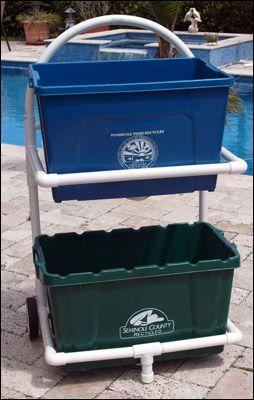PVC: (43, 324, 244, 367), (26, 158, 248, 189), (23, 87, 45, 237)
